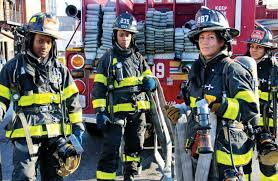emergent: (171, 8, 252, 179), (1, 11, 82, 179), (92, 13, 156, 179), (247, 26, 278, 159)
